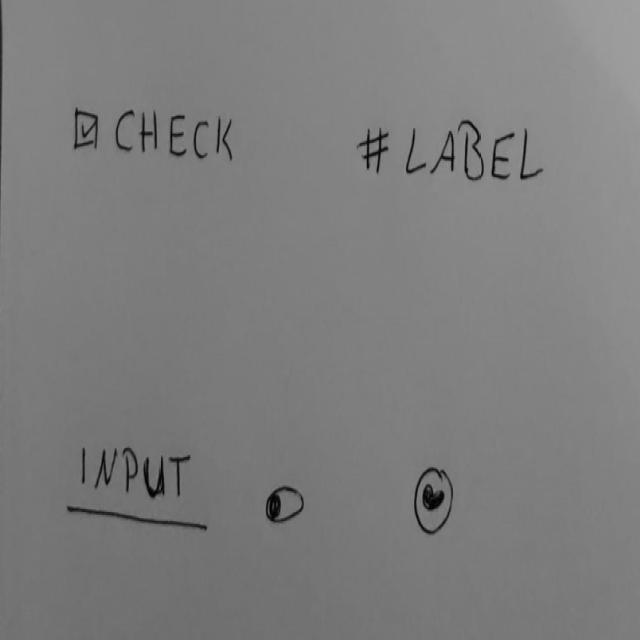checkbox: (74, 104, 238, 169)
icon-button: (413, 467, 456, 539)
input: (65, 441, 213, 536)
label: (358, 117, 546, 190)
toggle: (265, 483, 308, 529)
